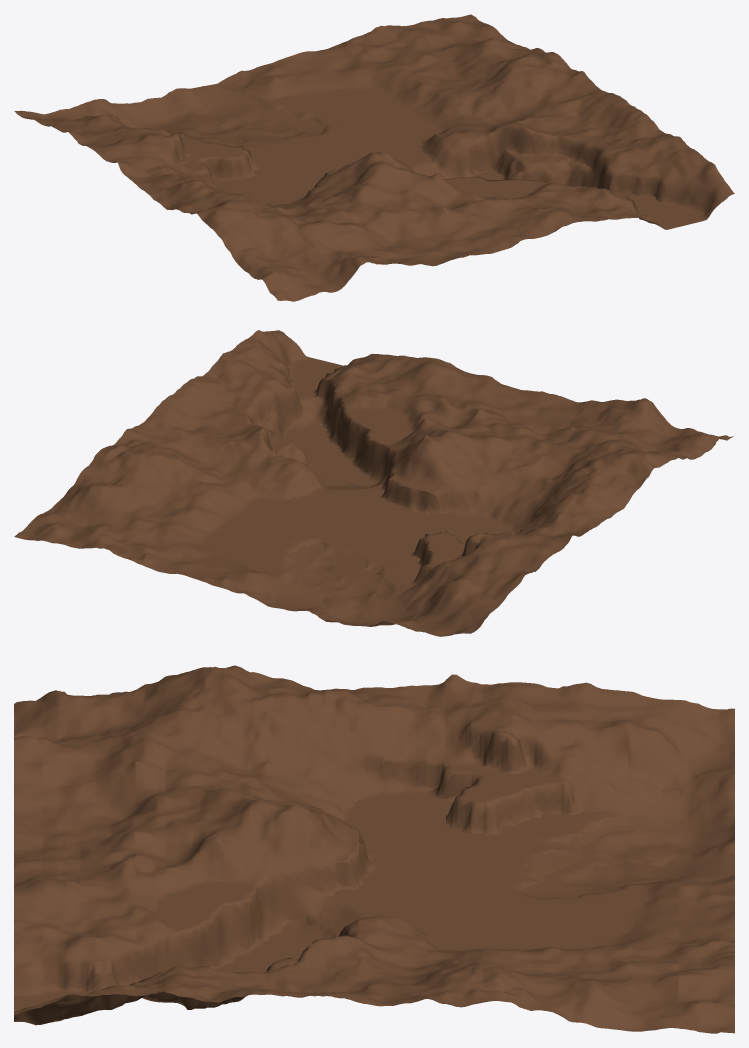
The model's file is Land.fbx.
The picture shows the model from 3 angles, top to bottom: view 1: azimuth 30°, elevation 25°; view 2: azimuth 150°, elevation 25°; view 3: azimuth 270°, elevation 25°; orthographic projection. The views are drawn at different scales.
Visible parts, largest first — view 1: Movie_Land_Mesh, Movie_Land_Mesh1; view 2: Movie_Land_Mesh, Movie_Land_Mesh1; view 3: Movie_Land_Mesh, Movie_Land_Mesh1.
Boxes of the visible parts, x1,y1,x2,y2 form: Movie_Land_Mesh: (14, 14, 734, 301); Movie_Land_Mesh1: (119, 80, 704, 229); Movie_Land_Mesh: (14, 330, 733, 636); Movie_Land_Mesh1: (202, 357, 513, 626); Movie_Land_Mesh: (14, 665, 734, 1033); Movie_Land_Mesh1: (14, 789, 734, 1022).
Bounding box in the file's own units: 9980 × 1484 × 9980.
